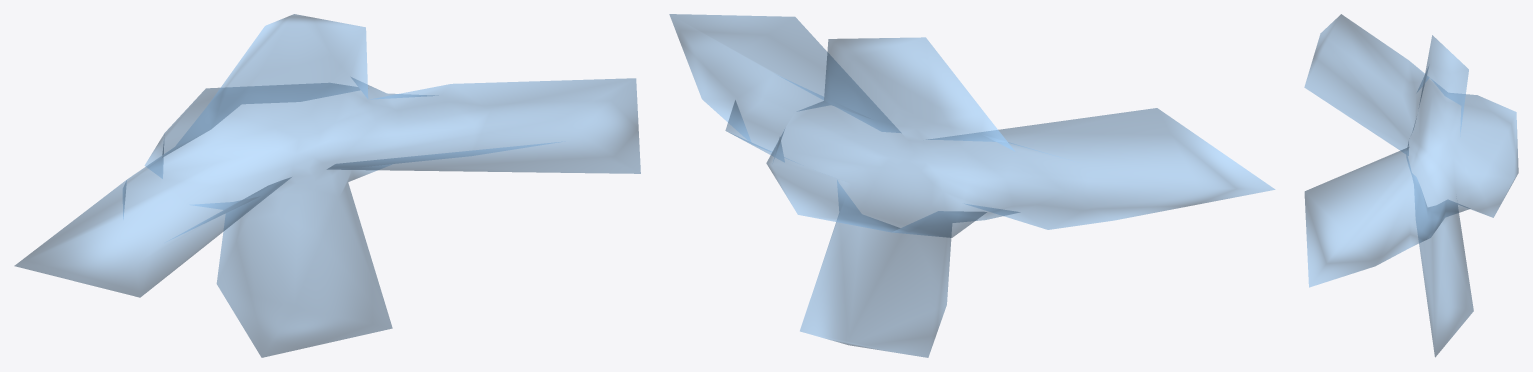
File: ssanctum_shield.gltf
The picture shows the model from 3 angles, left to right: view 1: azimuth 30°, elevation 25°; view 2: azimuth 150°, elevation 25°; view 3: azimuth 270°, elevation 25°; orthographic projection. The views are drawn at different scales.
Parts seen in each view (by area): view 1: ssanctum.shield; view 2: ssanctum.shield; view 3: ssanctum.shield.
Boxes of the visible parts, left/top/right/bottom form: ssanctum.shield: left=14, top=14, right=640, bottom=357; ssanctum.shield: left=669, top=14, right=1275, bottom=357; ssanctum.shield: left=1304, top=14, right=1518, bottom=357.
Size of the model in its own units: 48.6 by 24.89 by 17.78.
